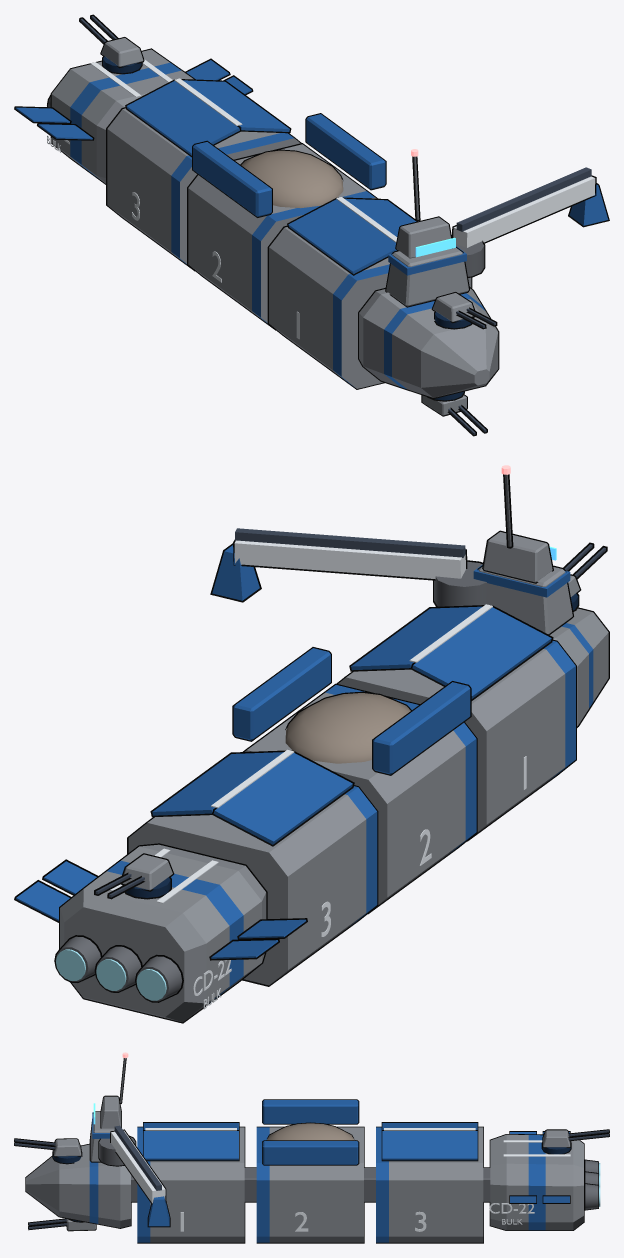
Rendered from Cargo_Destroyer_Bulk.fbx.
The picture shows the model from 3 angles, top to bottom: view 1: azimuth 30°, elevation 25°; view 2: azimuth 150°, elevation 25°; view 3: azimuth 270°, elevation 25°; orthographic projection. The views are drawn at different scales.
Parts seen in each view (by area): view 1: Hold0, Bow.001, Hold2, Hold1, Engine.001, Hold0_Hatch-1, Hold2_Hatch-1, Hold1_Ore, Bridge_A.001, Hold1_Cover1, Hold1_Cover-1, Boom_Truss (+12 smaller); view 2: Engine.001, Hold2, Hold0, Hold1, Hold2_Hatch-1, Hold0_Hatch-1, Hold1_Ore, Boom_Truss, Hold1_Cover-1, Hold1_Cover1, Bow.001, Hold0_Hatch1 (+18 smaller); view 3: Hold1, Hold2, Hold0, Engine.001, Bow.001, Hold2_Hatch1, Hold0_Hatch1, Hold1_Cover1, Hold1_Cover-1, Spine.001, Hold1_Ore, Boom_Truss (+13 smaller).
Part boxes in pixels (left/top/right/bottom): Hold0: left=267, top=225, right=472, bottom=389; Bow.001: left=358, top=287, right=499, bottom=398; Hold2: left=106, top=107, right=301, bottom=271; Hold1: left=187, top=143, right=377, bottom=330; Engine.001: left=50, top=48, right=195, bottom=184; Hold0_Hatch-1: left=287, top=197, right=396, bottom=275; Hold2_Hatch-1: left=125, top=79, right=241, bottom=157; Hold1_Ore: left=240, top=149, right=343, bottom=208; Bridge_A.001: left=385, top=247, right=469, bottom=307; Hold1_Cover1: left=305, top=113, right=386, bottom=190; Hold1_Cover-1: left=192, top=140, right=272, bottom=217; Boom_Truss: left=452, top=175, right=596, bottom=247; Engine.001: left=59, top=843, right=267, bottom=1023; Hold2: left=127, top=785, right=378, bottom=986; Hold0: left=337, top=639, right=576, bottom=841; Hold1: left=243, top=683, right=477, bottom=914; Hold2_Hatch-1: left=212, top=750, right=354, bottom=846; Hold0_Hatch-1: left=410, top=605, right=553, bottom=700; Hold1_Ore: left=285, top=691, right=411, bottom=763; Boom_Truss: left=233, top=539, right=467, bottom=580; Hold1_Cover-1: left=372, top=681, right=471, bottom=775; Hold1_Cover1: left=232, top=647, right=331, bottom=741; Bow.001: left=550, top=607, right=609, bottom=727; Hold0_Hatch1: left=349, top=605, right=490, bottom=671; Hold1: left=256, top=1126, right=364, bottom=1243; Hold2: left=376, top=1126, right=483, bottom=1243; Hold0: left=137, top=1126, right=245, bottom=1243; Engine.001: left=489, top=1134, right=584, bottom=1230; Bow.001: left=25, top=1143, right=131, bottom=1228; Hold2_Hatch1: left=381, top=1130, right=478, bottom=1161; Hold0_Hatch1: left=143, top=1130, right=239, bottom=1161; Hold1_Cover1: left=262, top=1140, right=359, bottom=1165; Hold1_Cover-1: left=262, top=1099, right=359, bottom=1124; Spine.001: left=131, top=1167, right=490, bottom=1202; Hold1_Ore: left=267, top=1122, right=354, bottom=1140; Boom_Truss: left=110, top=1129, right=166, bottom=1204.
Size of the model in its own units: 44.73 by 32.61 by 101.
